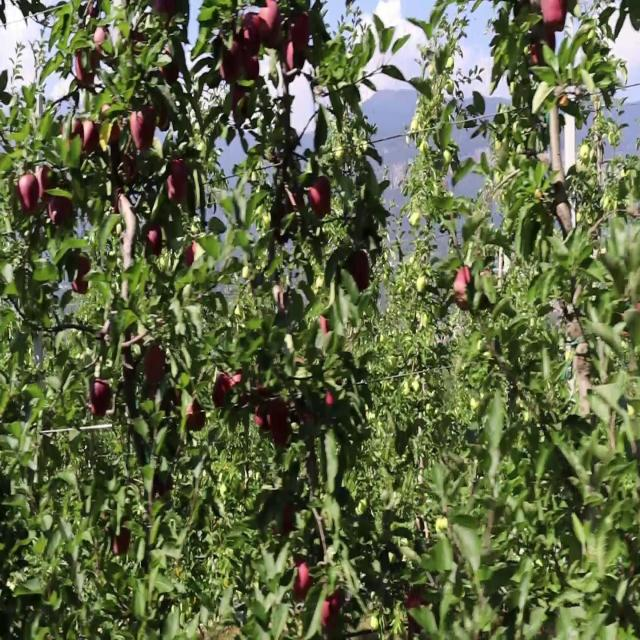apple: (132, 106, 156, 155), (68, 120, 100, 156), (268, 398, 291, 448), (64, 120, 96, 155), (320, 590, 345, 633), (308, 177, 332, 220), (220, 42, 243, 85), (168, 163, 191, 206), (20, 170, 40, 219), (212, 376, 240, 411), (256, 0, 281, 39), (76, 49, 99, 91), (528, 35, 556, 69), (292, 561, 314, 603), (540, 1, 568, 34), (404, 590, 426, 631), (240, 14, 262, 55), (88, 383, 112, 420), (352, 248, 372, 292), (144, 348, 168, 384), (72, 255, 92, 297), (284, 42, 304, 84), (280, 42, 299, 84), (268, 398, 290, 434), (280, 191, 305, 222), (160, 49, 181, 85), (64, 120, 86, 153), (292, 14, 312, 50), (80, 120, 100, 156), (288, 42, 308, 76), (324, 376, 343, 411), (52, 199, 74, 229), (276, 504, 296, 537), (456, 270, 472, 311), (144, 227, 164, 258), (284, 191, 306, 219), (40, 163, 55, 204), (92, 28, 110, 62), (156, 0, 177, 27), (188, 405, 206, 434), (124, 341, 138, 377), (232, 85, 248, 116), (244, 56, 260, 85), (112, 191, 131, 215), (272, 426, 292, 448), (124, 156, 139, 185), (276, 284, 290, 315), (528, 42, 544, 69), (284, 504, 296, 537), (324, 383, 339, 409), (184, 241, 197, 270), (116, 533, 132, 556), (156, 106, 169, 133), (256, 405, 267, 432), (112, 120, 122, 144), (320, 319, 332, 336), (304, 412, 317, 427)
